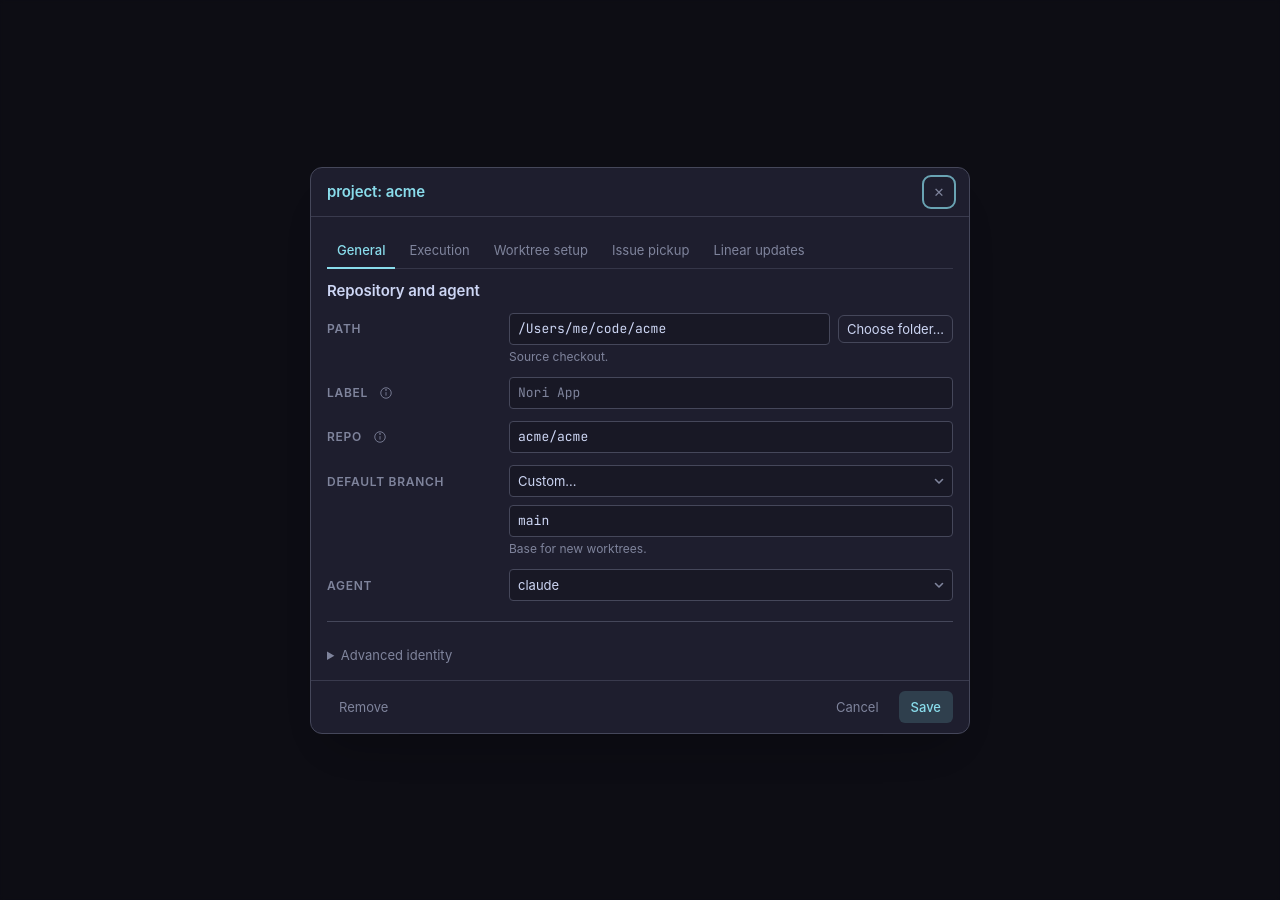
Scenario: ProjectForm › loads the whole project and opens on the Repo tab
Expected: the field named "Path" holds "/Users/me/code/acme", [509,312,830,344]
Expected: the heading "project: acme" is shown, [327,182,425,202]
Click the tab "Worktree setup". click: [541, 250]
box: [484,232,598,268]
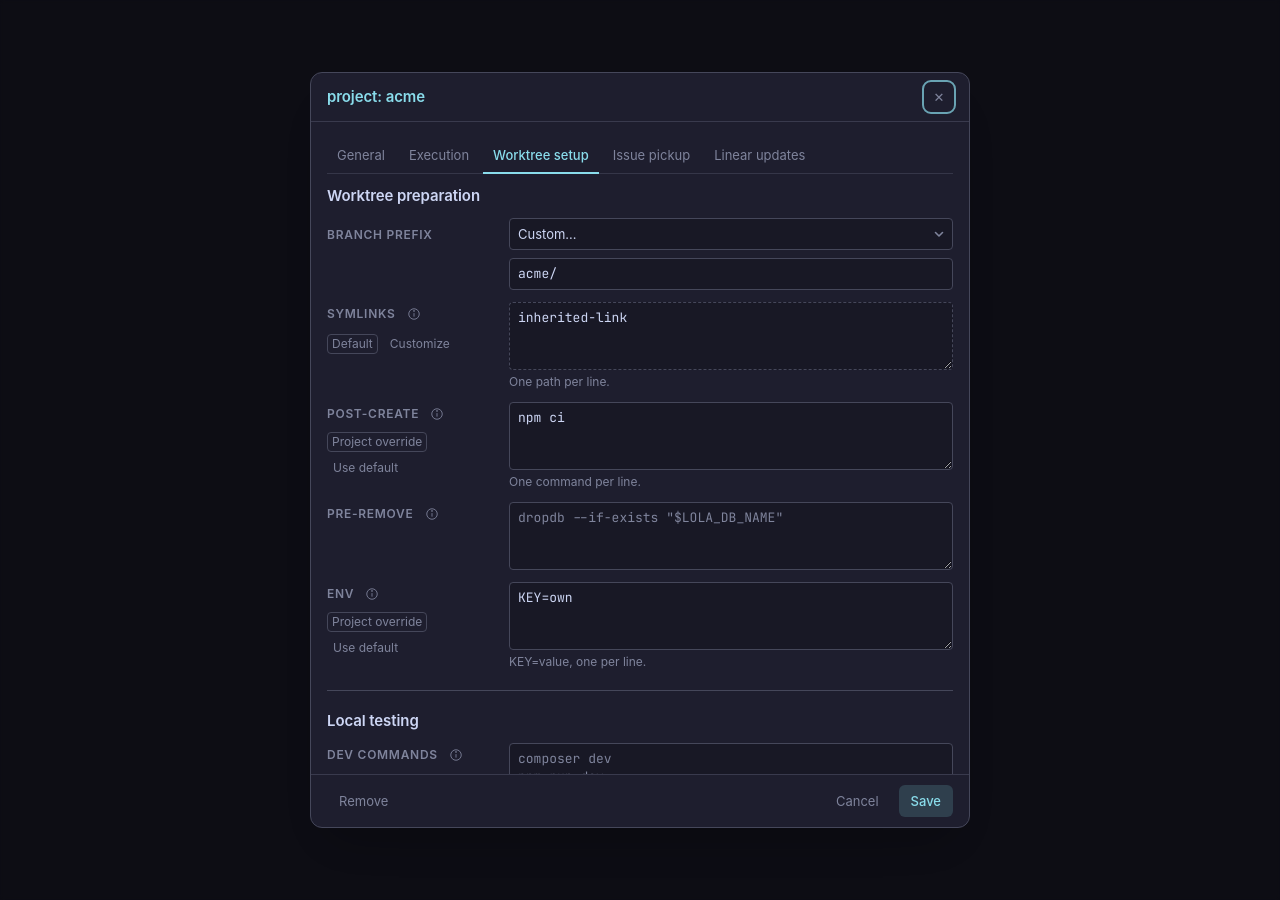
Expected: the tab "General" is shown, [327,138,395,174]
Expected: the field named "Custom Branch prefix" holds "acme/", [509,258,953,290]
